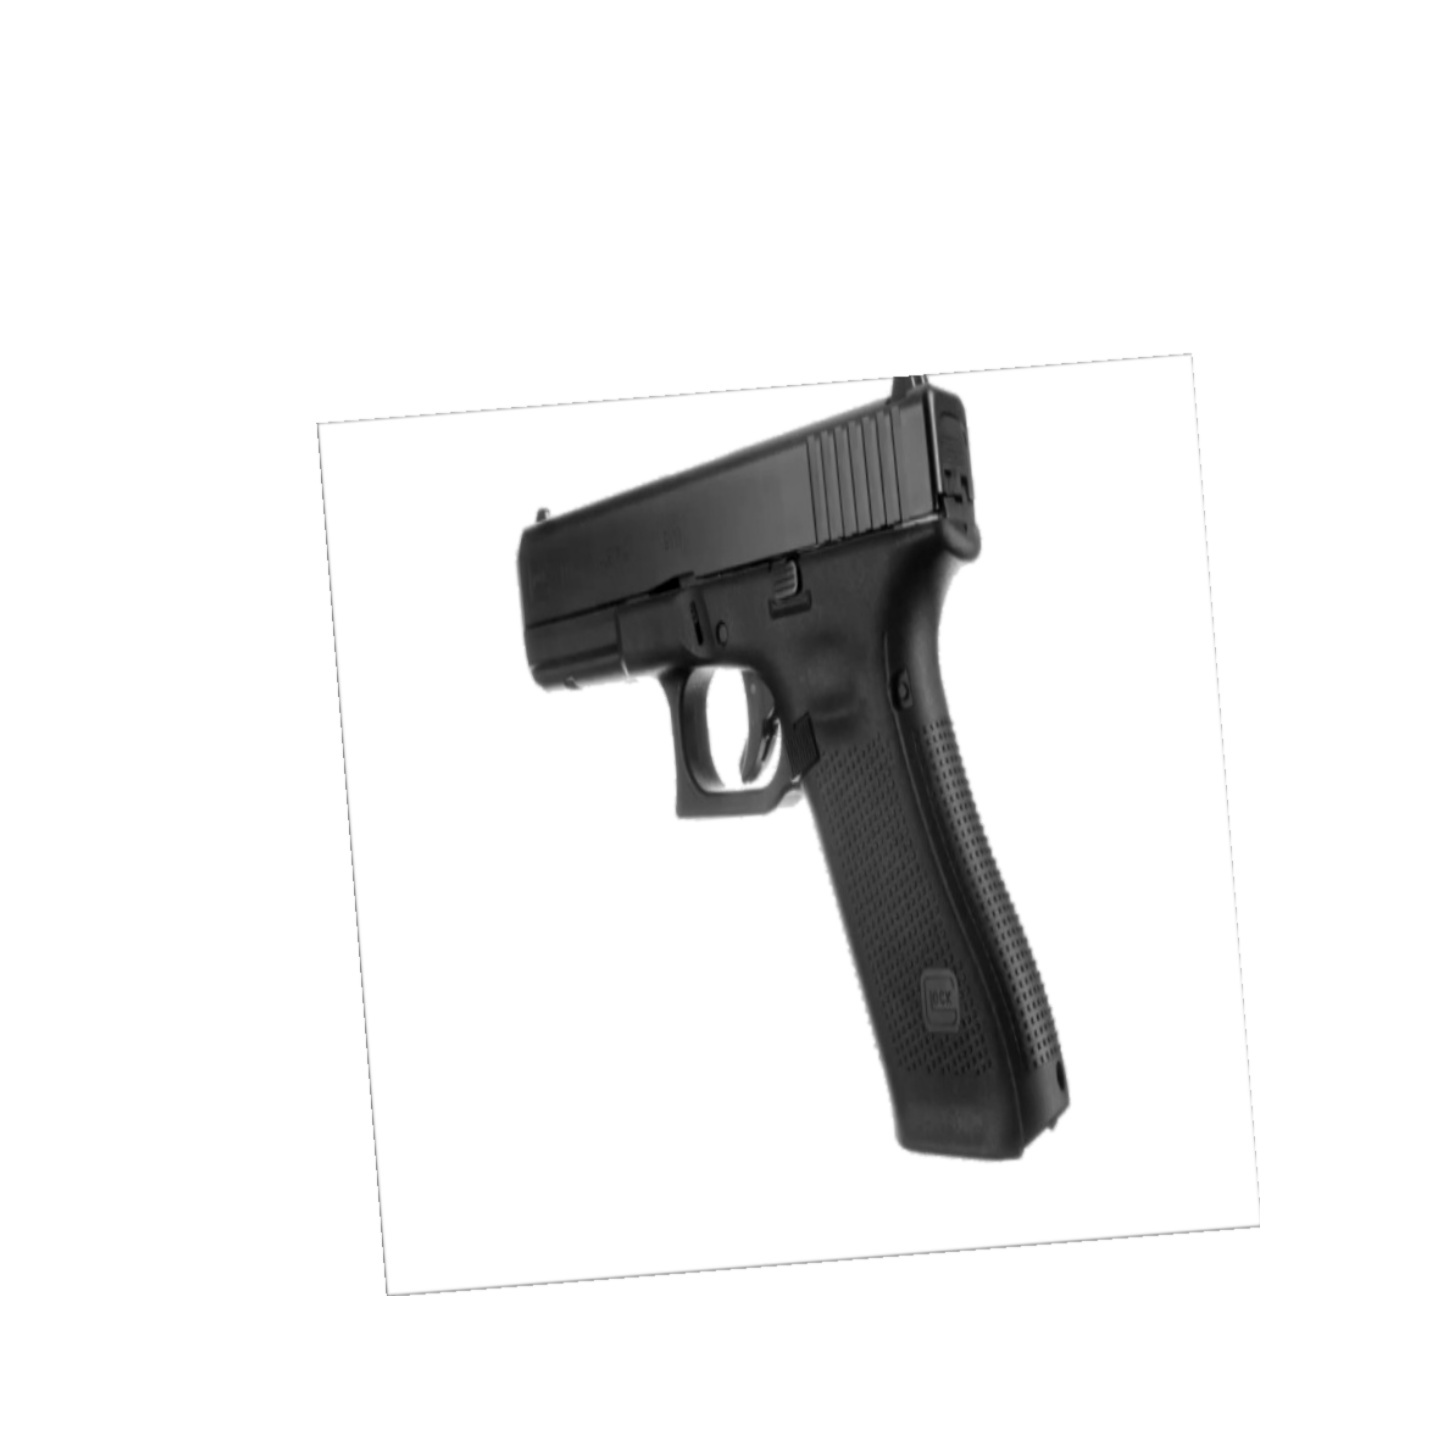gun: (515, 375, 1075, 1161)
